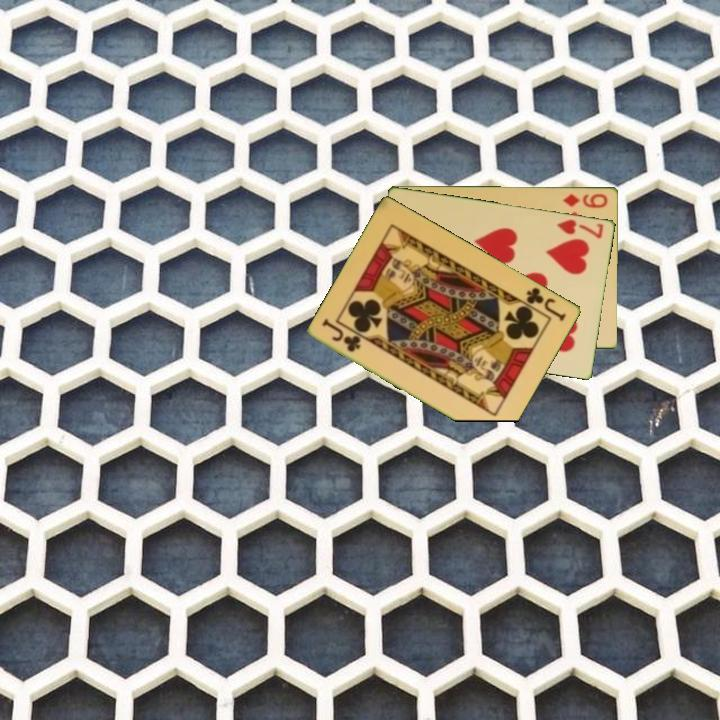7h: (554, 215, 607, 241)
9d: (560, 190, 610, 210)
Jc: (523, 284, 569, 324), (319, 316, 364, 355)
